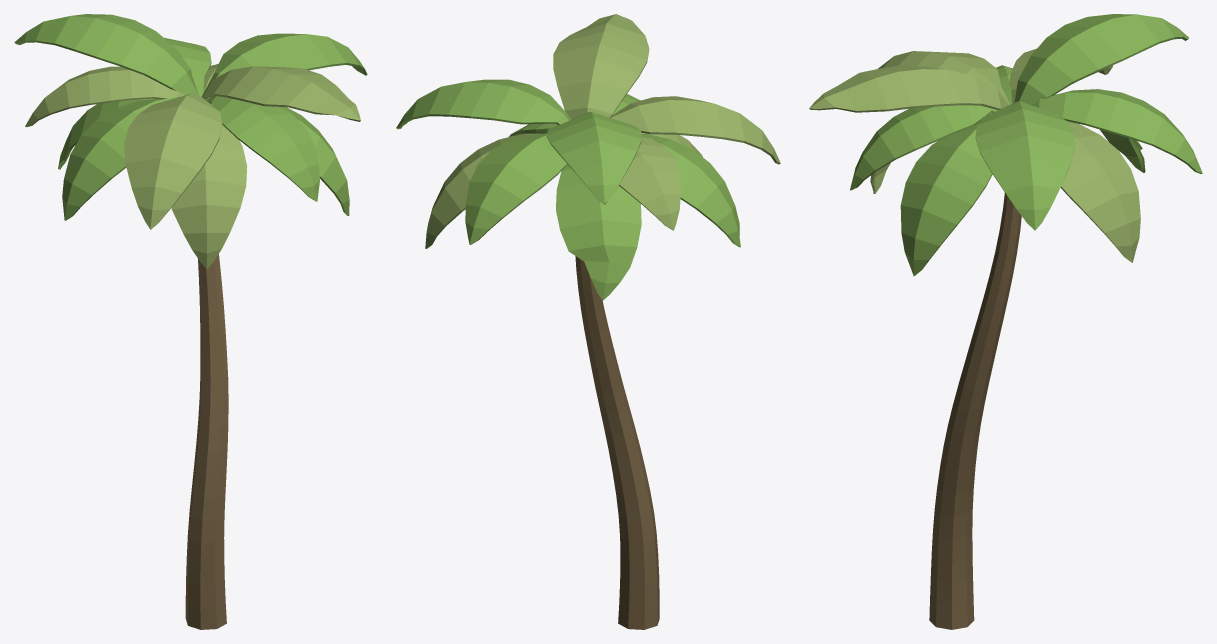
File: Palm_Tree.fbx
3 views of the same model, side by side, from view 1: azimuth 30°, elevation 25°; view 2: azimuth 150°, elevation 25°; view 3: azimuth 270°, elevation 25° (orthographic). The views are drawn at different scales.
Visible parts, largest first — view 1: Palm-tree; view 2: Palm-tree; view 3: Palm-tree.
Boxes of the visible parts, left/top/right/bottom form: Palm-tree: left=14, top=14, right=367, bottom=629; Palm-tree: left=396, top=14, right=780, bottom=629; Palm-tree: left=809, top=14, right=1202, bottom=629.
Bounding box in the file's own units: 328 × 540 × 330.
